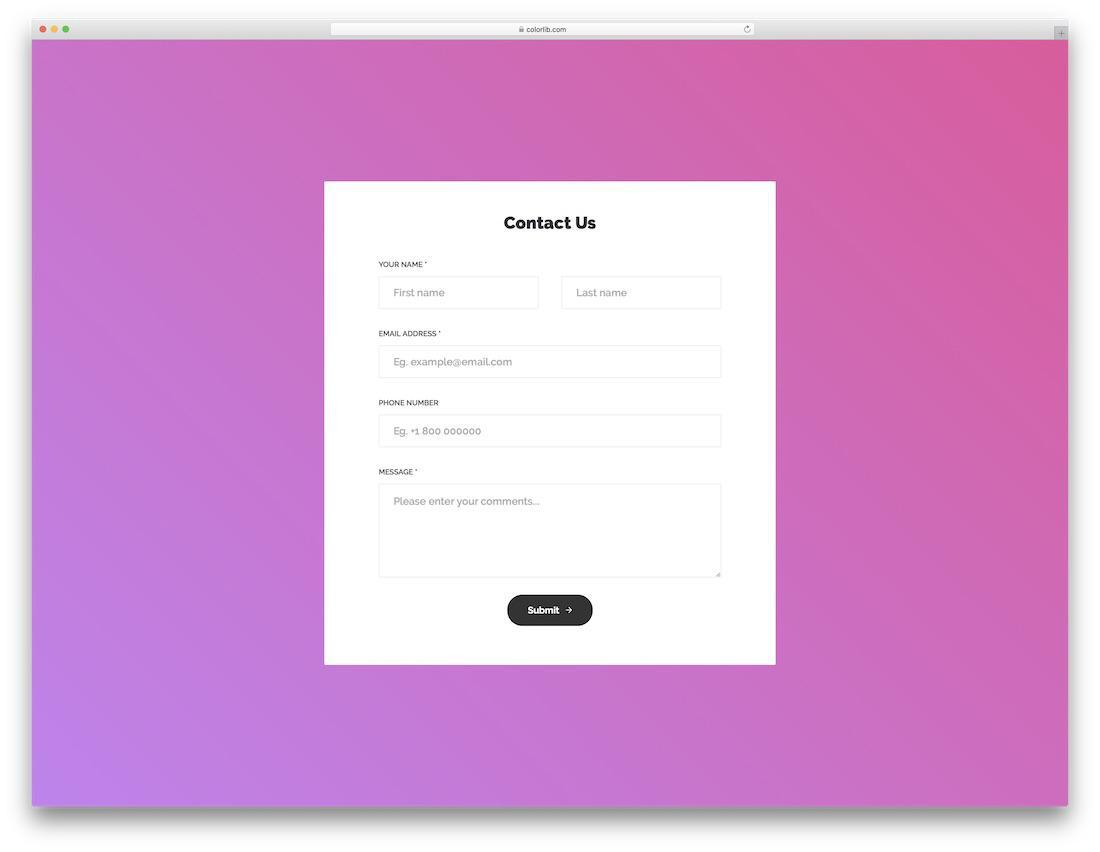button: (507, 594, 595, 629)
input: (377, 344, 724, 382), (378, 413, 723, 451), (560, 273, 725, 313), (378, 274, 542, 312)
label: (376, 398, 443, 409), (378, 329, 445, 339), (376, 467, 424, 479), (380, 260, 430, 271)
